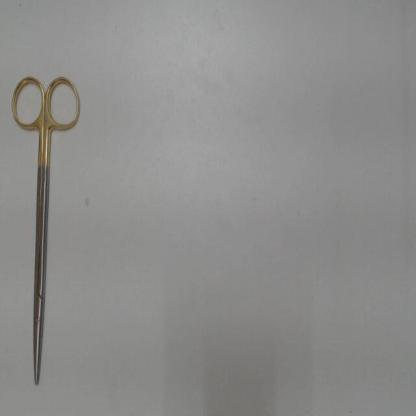7 Metzenbaum Scissors: (9, 68, 84, 388)
